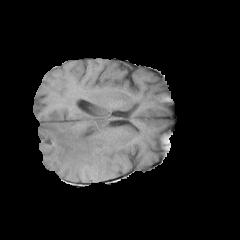glioma: (39, 116, 124, 181)
